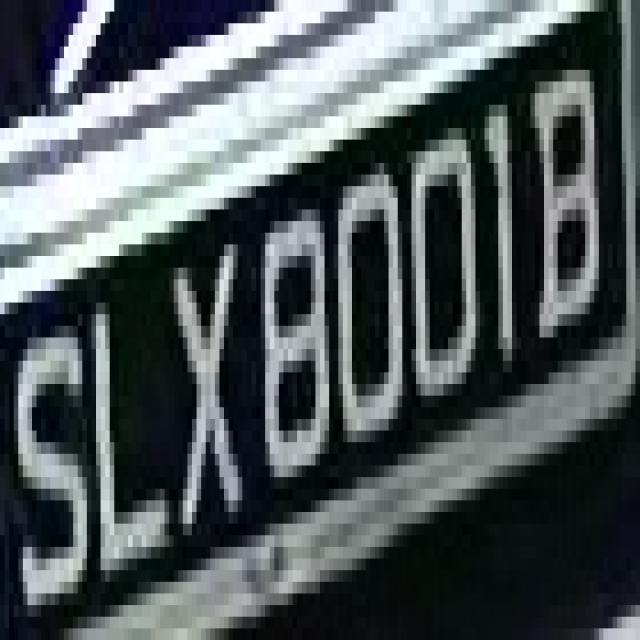0: (324, 140, 412, 453), (402, 104, 485, 430)
1: (489, 70, 530, 372)
8: (261, 163, 338, 535)
B: (521, 47, 613, 396)
L: (87, 268, 178, 616)
S: (0, 5, 1, 12)
X: (165, 221, 256, 535)
